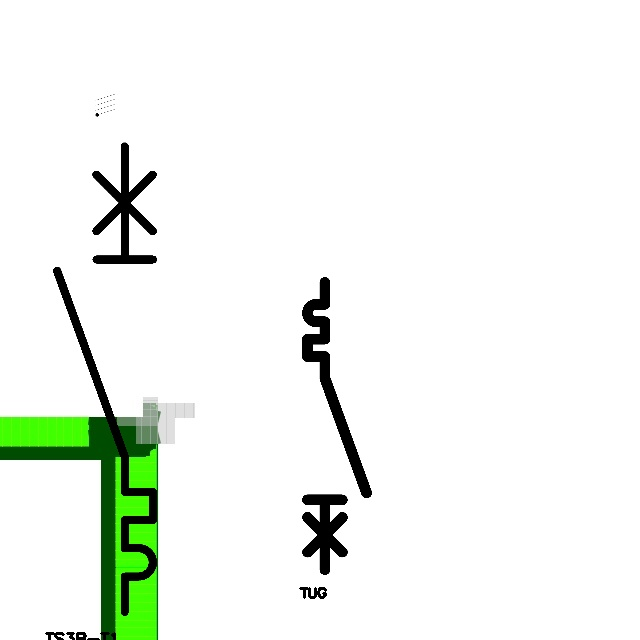interruptor_termomagnetico: (45, 134, 165, 624), (300, 275, 374, 577)
